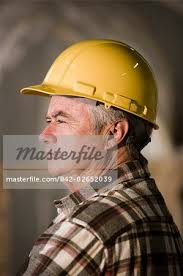Person_wearing_helmet: (16, 44, 163, 114)
